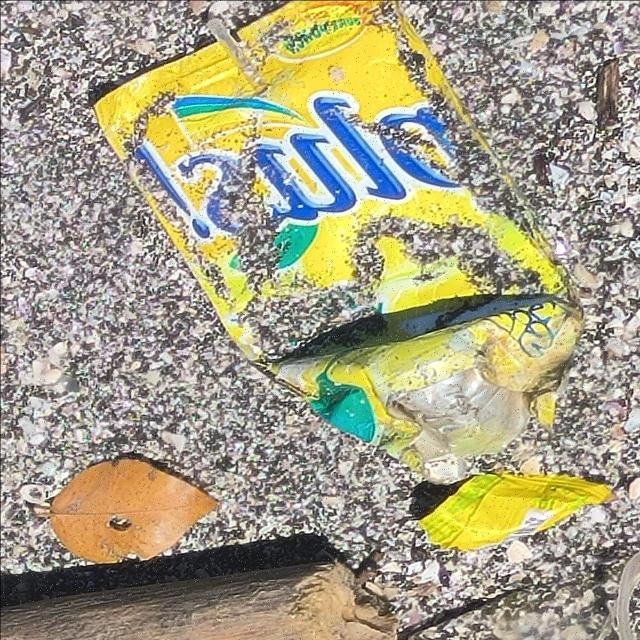plastic_waste: (85, 1, 590, 473), (412, 471, 622, 551)
